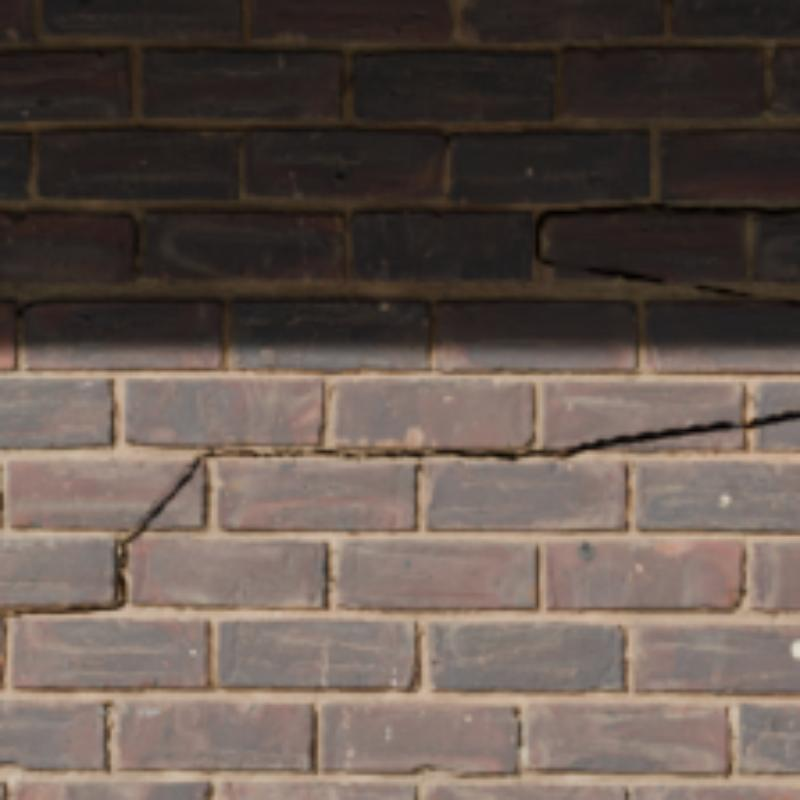pothole: (0, 411, 796, 618), (532, 207, 796, 304)
